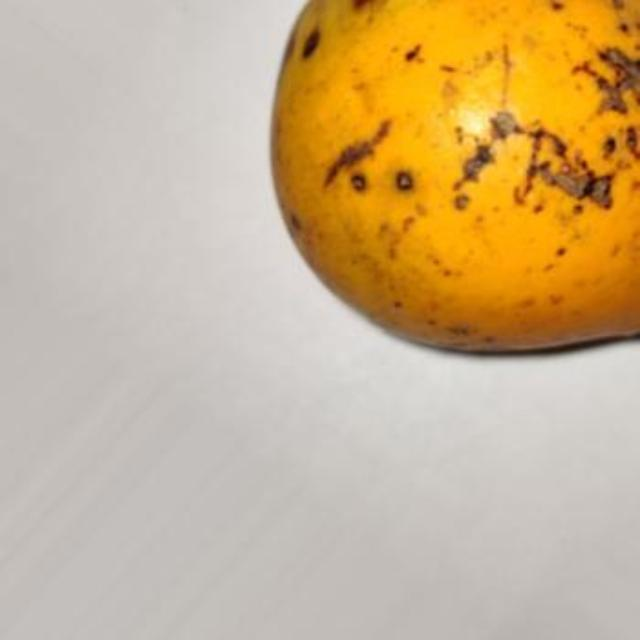good: (269, 0, 638, 357)
